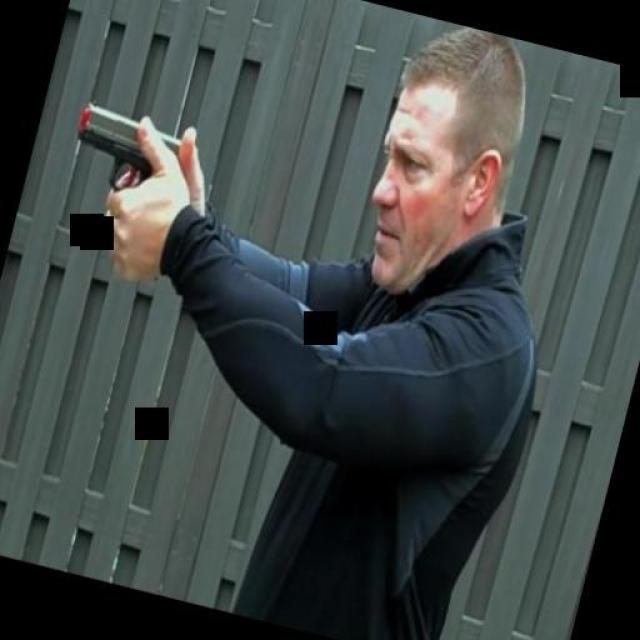gun: (42, 96, 206, 279)
